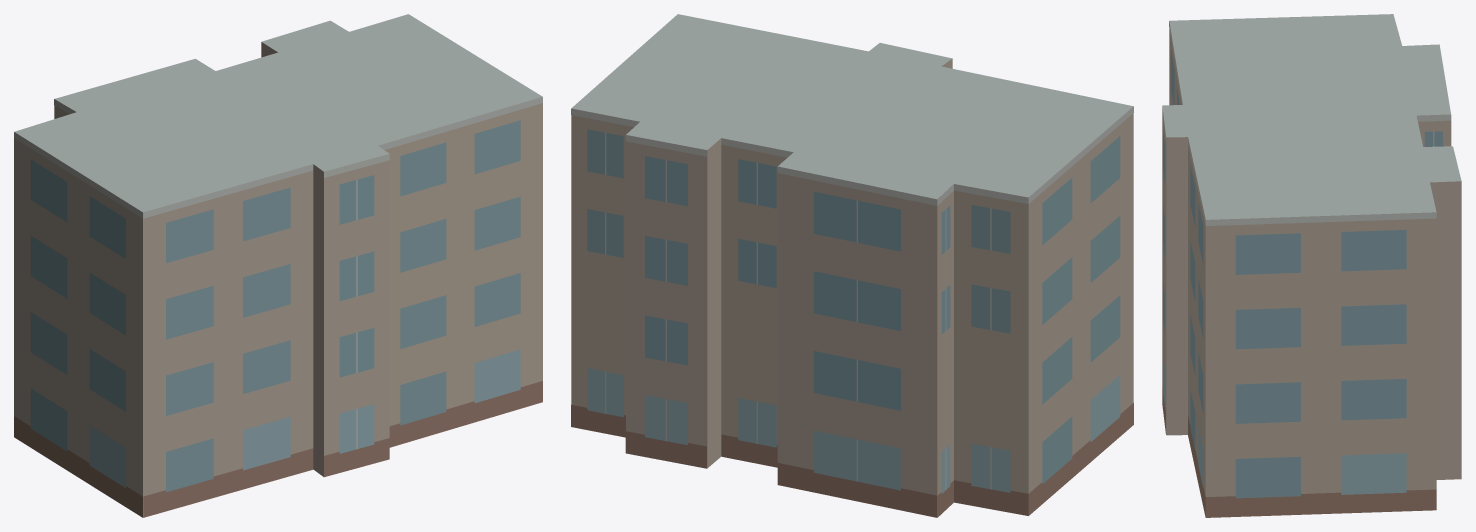
The model's file is survey-upis-32755814.glb.
3 views of the same model, side by side, from view 1: azimuth 30°, elevation 25°; view 2: azimuth 150°, elevation 25°; view 3: azimuth 270°, elevation 25° (orthographic). The views are drawn at different scales.
Visible parts, largest first — view 1: survey-upis-32755814.tmp; view 2: survey-upis-32755814.tmp; view 3: survey-upis-32755814.tmp.
Boxes of the visible parts, <box> form: survey-upis-32755814.tmp: <box>14,14,542,517</box>; survey-upis-32755814.tmp: <box>571,14,1133,517</box>; survey-upis-32755814.tmp: <box>1162,14,1461,517</box>.
Size of the model in its own units: 17.5 by 11.8 by 10.75.
